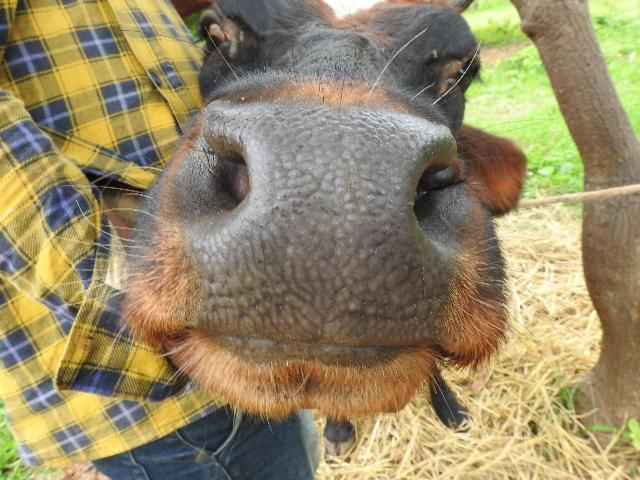Muzzle: (212, 103, 446, 338)
